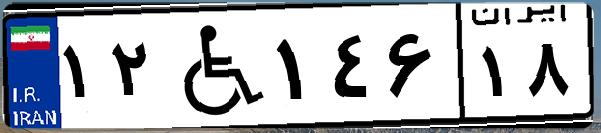1: (270, 28, 330, 110), (57, 26, 110, 100), (475, 38, 525, 113)
2: (110, 28, 158, 98)
4: (330, 28, 385, 110)
6: (385, 28, 445, 110)
8: (525, 38, 570, 115)
ژ (معلولین و جانبازان): (158, 12, 270, 120)
